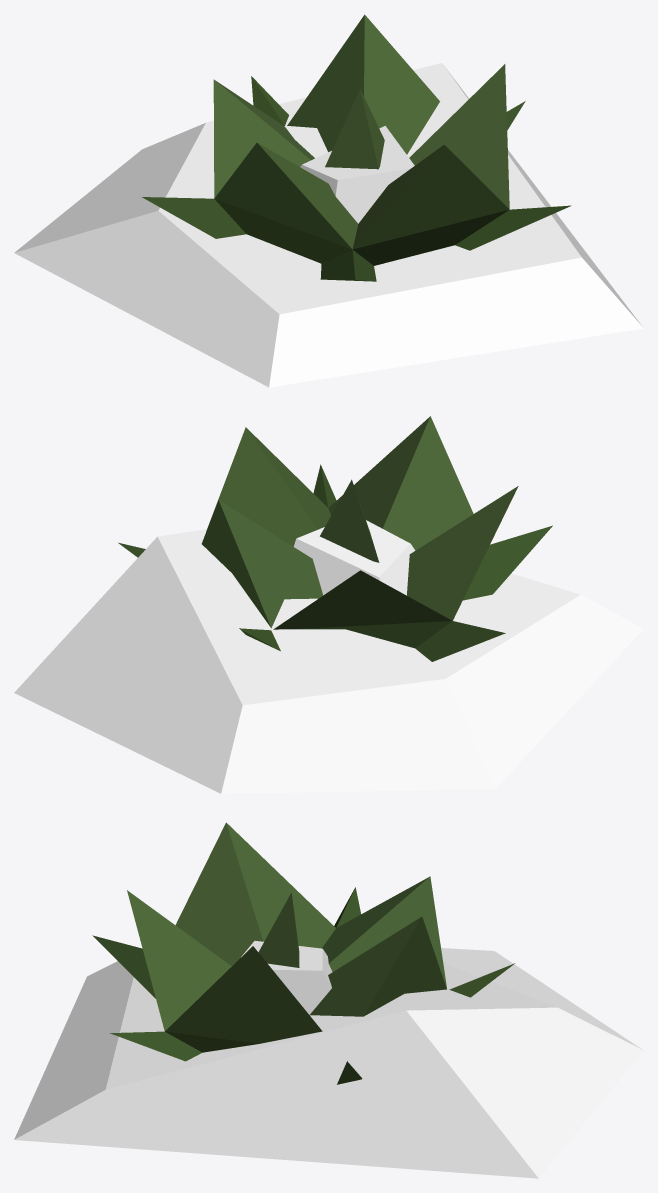
The model's file is BushWinter5_Alt1.fbx.
3 views of the same model, one above another, from view 1: azimuth 30°, elevation 25°; view 2: azimuth 150°, elevation 25°; view 3: azimuth 270°, elevation 25° (orthographic).
Parts seen in each view (by area): view 1: BushWinter5_Alt1; view 2: BushWinter5_Alt1; view 3: BushWinter5_Alt1.
Part boxes in pixels (box(x1,y1,x2,y2)): BushWinter5_Alt1: box(14, 14, 643, 387); BushWinter5_Alt1: box(14, 416, 643, 793); BushWinter5_Alt1: box(14, 822, 643, 1178).
Size of the model in its own units: 0.9251 by 0.3591 by 1.08.
